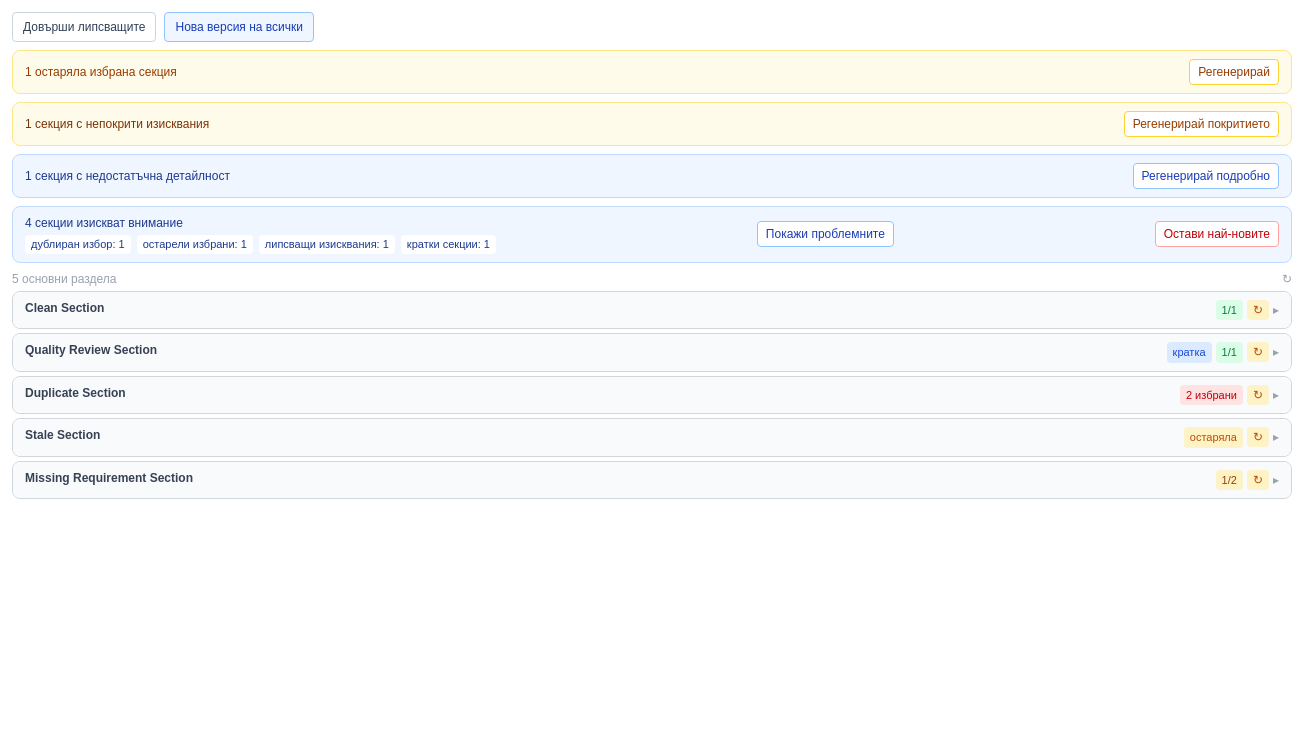
Test case: GenerationsPanel › summarizes and filters sections that need generation attention
Check: the element with test id "generation-attention-summary" shows "4 секции изискват внимание", box [12, 206, 1292, 263]
Check: the element with test id "generation-attention-summary" shows "дублиран избор: 1", box [12, 206, 1292, 263]
Click the button with test id "generation-attention-filter-toggle" at (825, 234), box [757, 221, 894, 247]
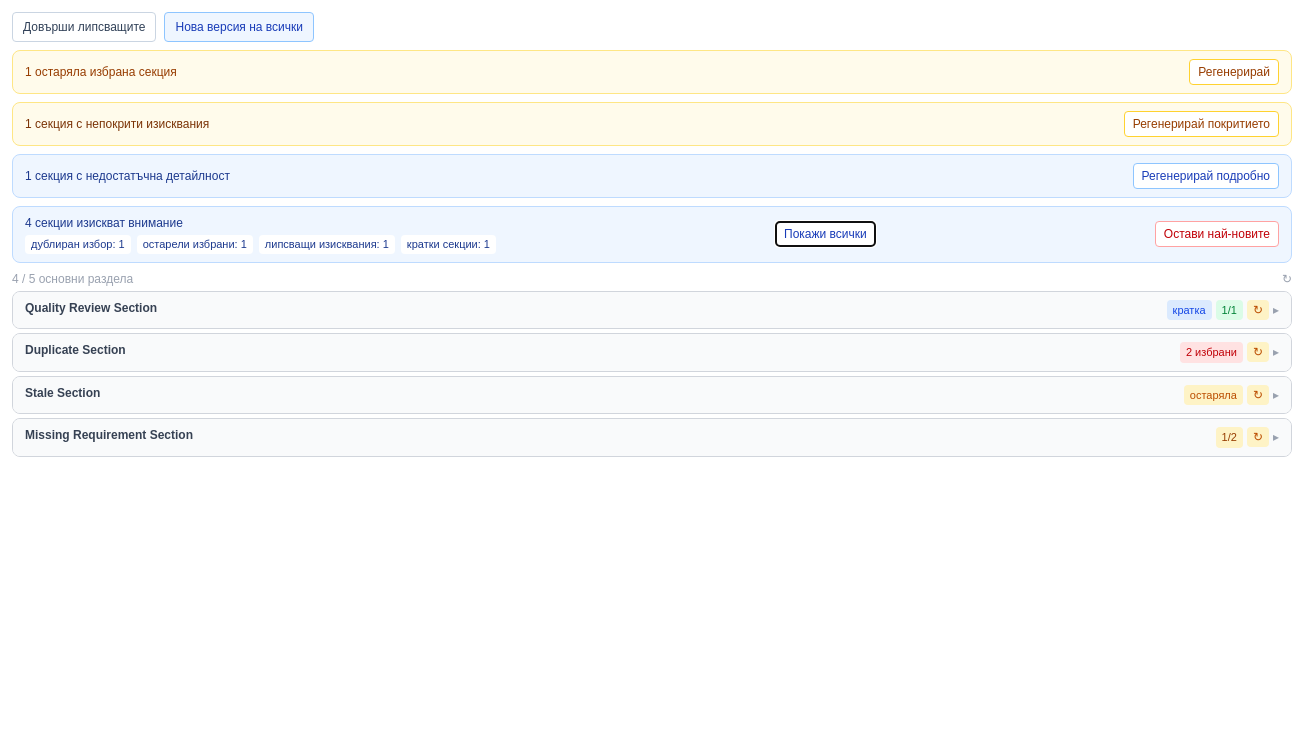
Check: the button with test id "generation-section-sec-clean" is gone
Check: the text "4 / 5 основни раздела" is shown, box [12, 271, 133, 287]
Check: the button with test id "generation-attention-filter-toggle" reads "Покажи всички", box [775, 221, 876, 247]
Click the button with test id "generation-section-sec-quality" at (91, 308), box [25, 300, 1167, 316]
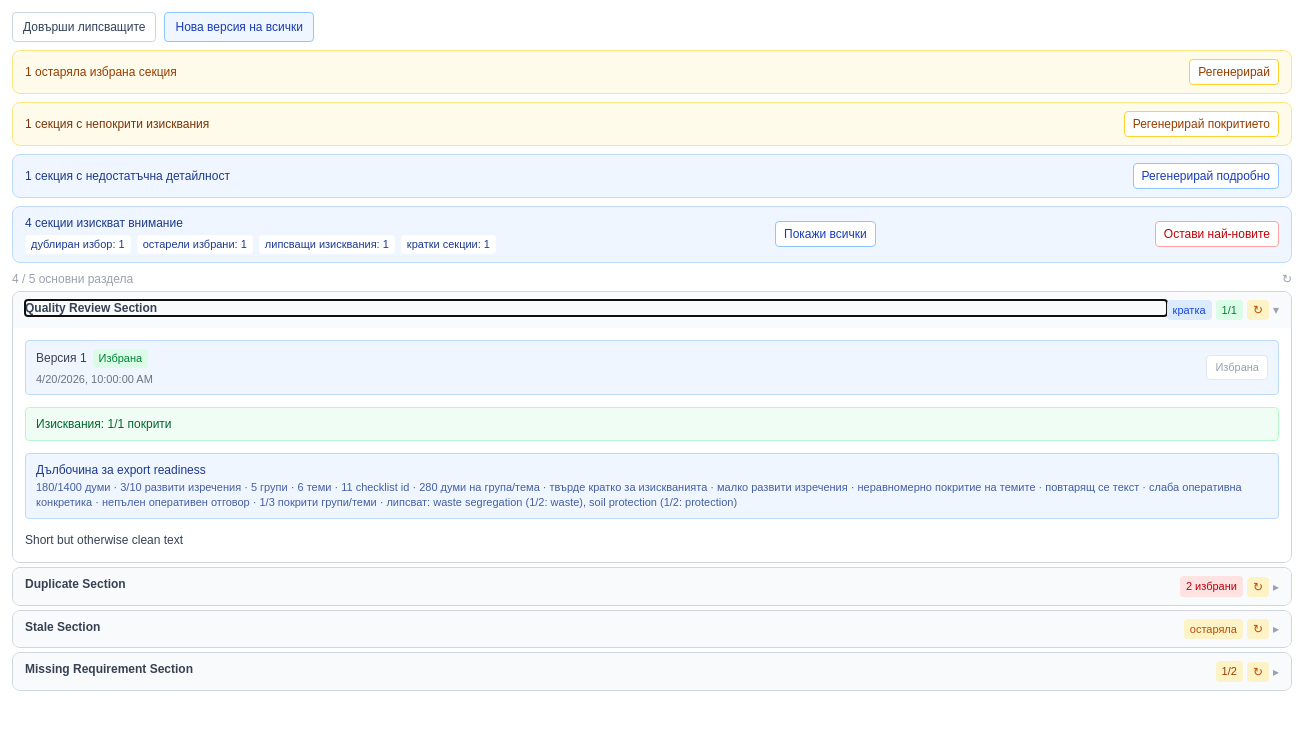
Check: the element with test id "generation-quality-depth-sec-quality" shows "180/1400 думи", box [36, 482, 1242, 508]
Check: the element with test id "generation-quality-depth-sec-quality" shows "280 думи на група/тема", box [36, 482, 1242, 508]
Check: the element with test id "generation-quality-depth-sec-quality" shows "1/3 покрити групи/теми", box [36, 482, 1242, 508]
